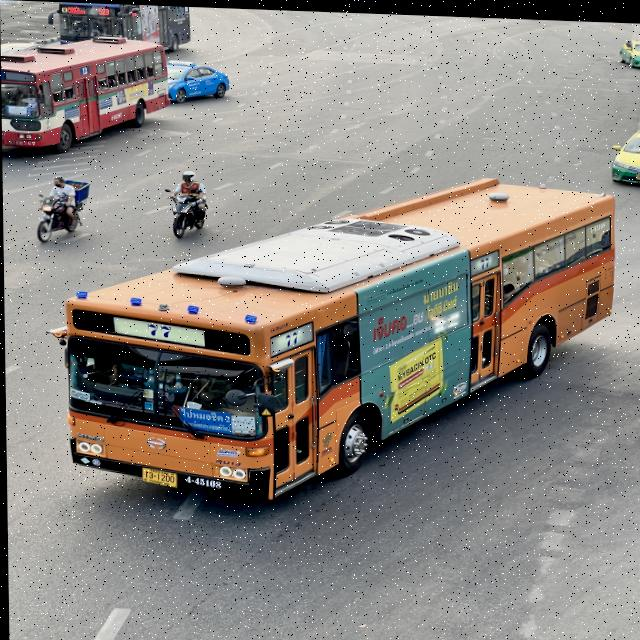BMTA-bus: (49, 162, 621, 510)
Bus-Line-Number: (135, 316, 182, 342), (278, 327, 303, 345), (477, 252, 493, 266)
Destination-Sign-Normal: (178, 404, 230, 434)
